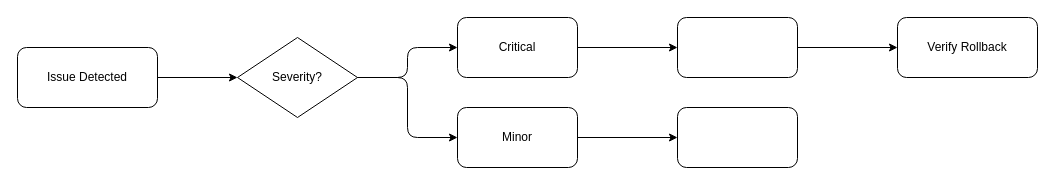
Image size: 1055x185. Some labels were removed from this diagram. Here are the shapes that lost their labels. From the top down, the centre of each, then its label:
At point 737,47: "Rollback".
At point 737,137: "Hotfix".
